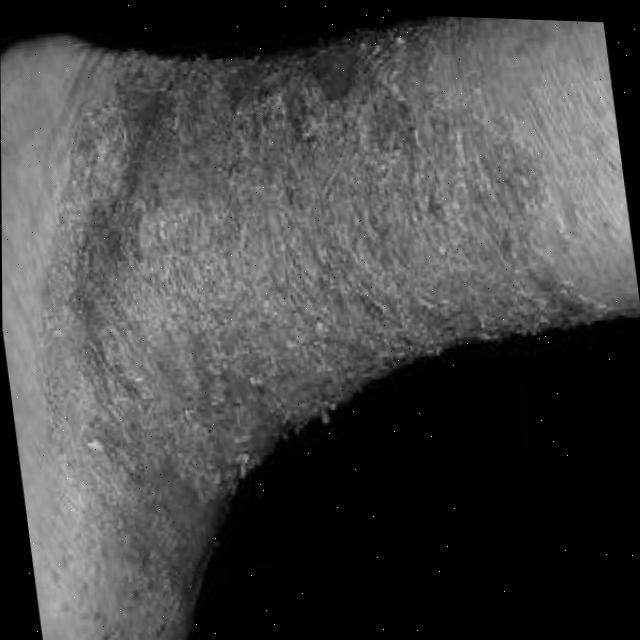Eczema: (62, 33, 562, 468), (93, 479, 215, 595)
